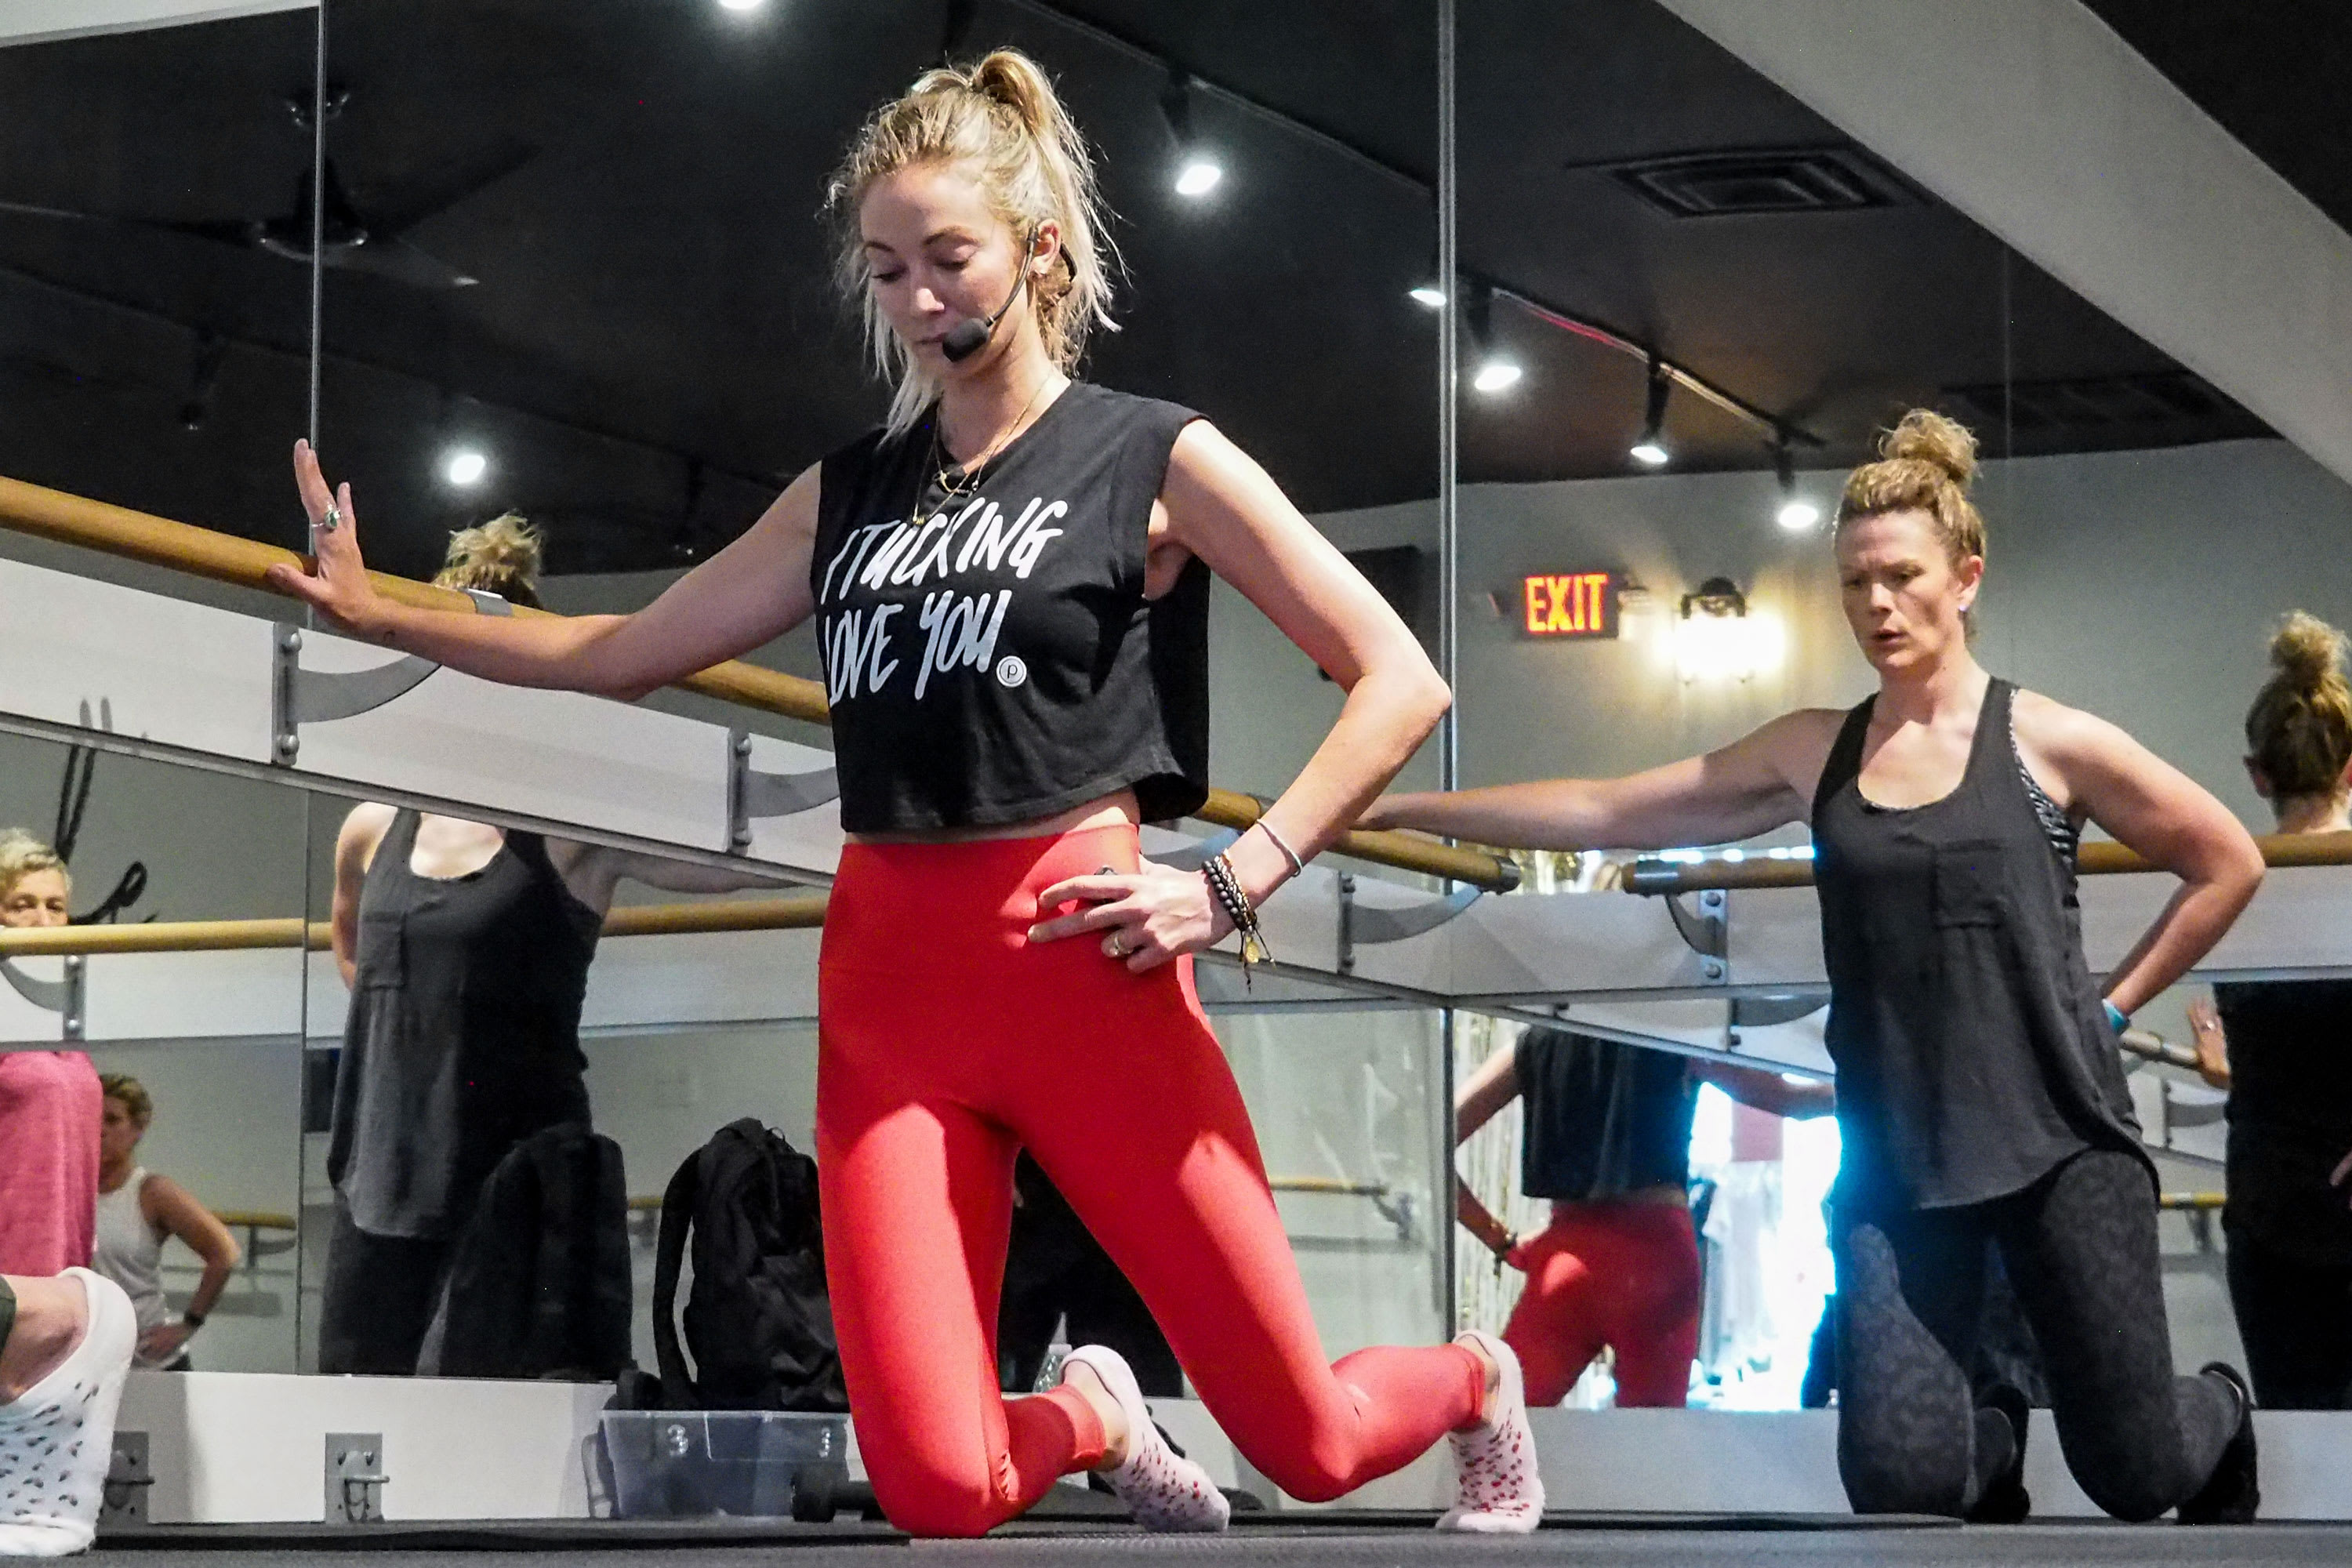Good: (264, 53, 2285, 1542)
